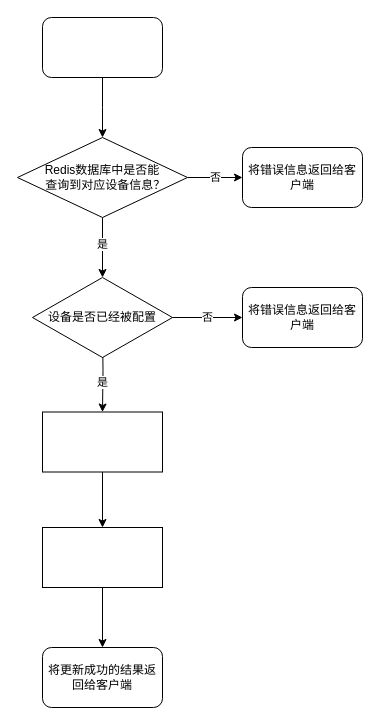
Some shapes in this 380 by 725 pixel diagram are drawn without their labels. The shapes that lost their labels are listed below. From the top down, each one's box as (x1, y1, x2, y2) in pixels, then its label:
(42, 16, 162, 78): 传入groupid、taskindex、传感模型参数及时间戳
(42, 411, 162, 472): 为设备更新传感模型的起始时间
(42, 526, 162, 588): 在Redis中更新设备对应的传感模型配置
